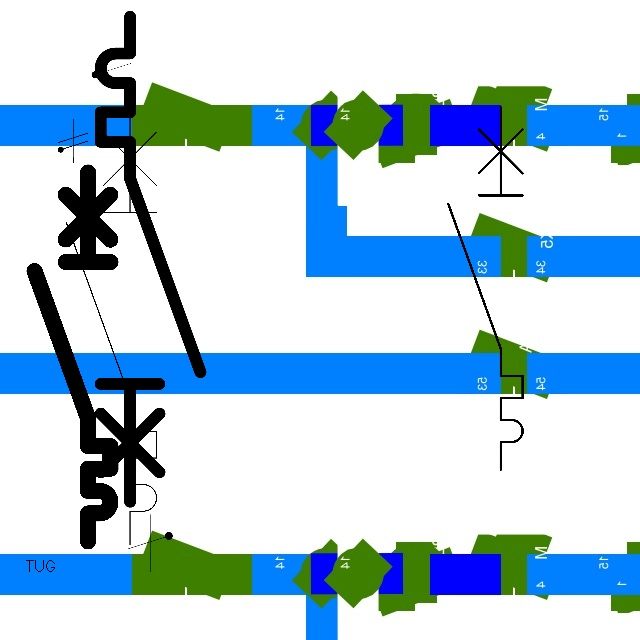interruptor_termomagnetico: (88, 4, 213, 514), (55, 94, 168, 556), (25, 162, 120, 550), (439, 98, 532, 479)
